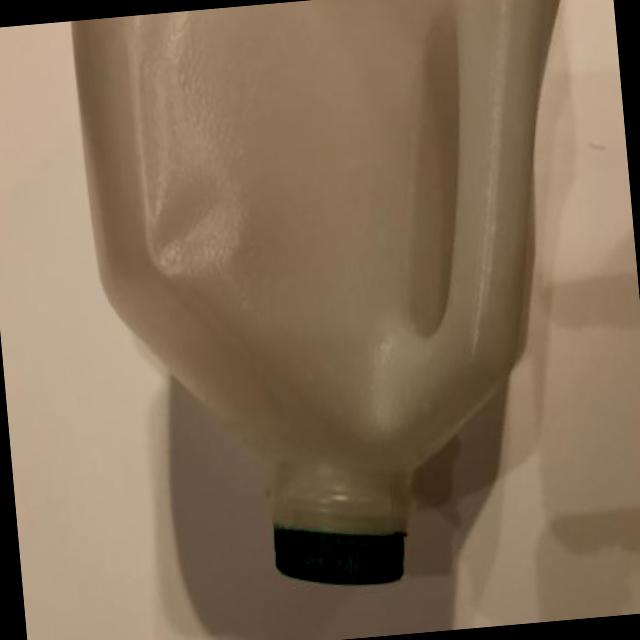Recycle: (69, 0, 623, 611)
